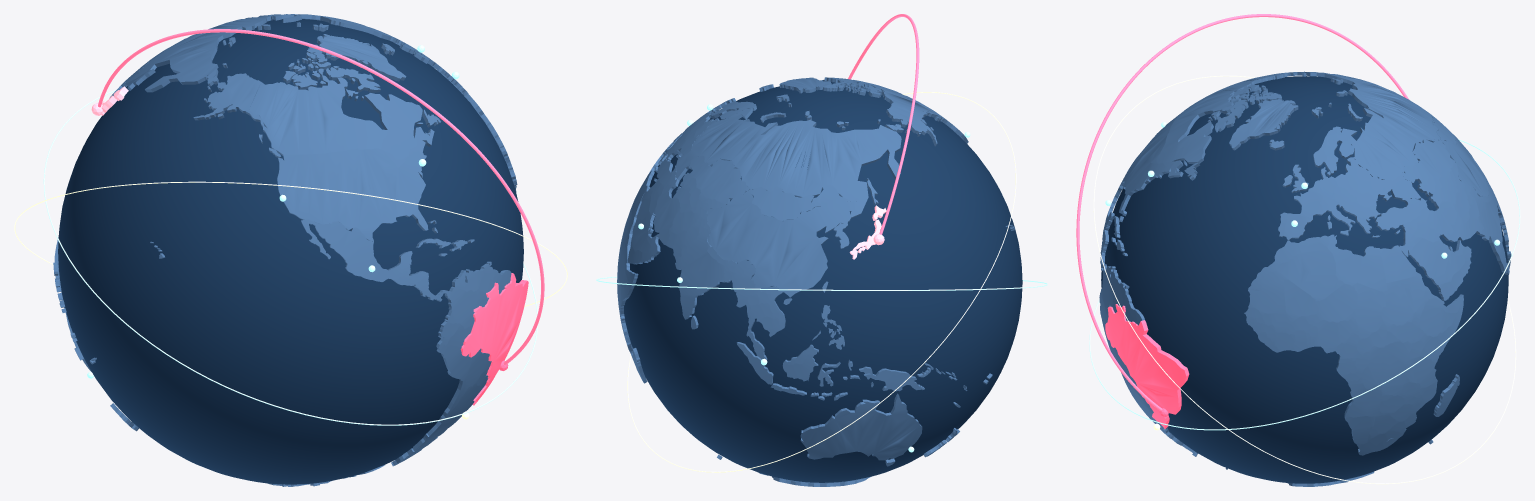
File: scene01_world.glb
3 views of the same model, side by side, from view 1: azimuth 30°, elevation 25°; view 2: azimuth 150°, elevation 25°; view 3: azimuth 270°, elevation 25° (orthographic). The views are drawn at different scales.
Visible parts, largest first — view 1: Globe_Ocean, Globe_Continents, Globe_Country_Brazil, Akai_Ito_Brazil_Japan, Globe_Orbital_Ring_1, Globe_Orbital_Ring_2; view 2: Globe_Ocean, Globe_Continents, Akai_Ito_Brazil_Japan, Globe_Orbital_Ring_2, Globe_Orbital_Ring_1, Globe_Country_Japan; view 3: Globe_Ocean, Globe_Continents, Globe_Country_Brazil, Akai_Ito_Brazil_Japan, Globe_Orbital_Ring_2, Globe_Orbital_Ring_1.
Boxes of the visible parts, x1,y1,x2,y2 form: Globe_Ocean: [58, 19, 523, 484]; Globe_Continents: [53, 14, 517, 486]; Globe_Country_Brazil: [460, 273, 528, 405]; Akai_Ito_Brazil_Japan: [98, 29, 544, 364]; Globe_Orbital_Ring_1: [43, 89, 537, 425]; Globe_Orbital_Ring_2: [14, 181, 567, 306]; Globe_Ocean: [624, 82, 1022, 482]; Globe_Continents: [617, 77, 1014, 486]; Akai_Ito_Brazil_Japan: [848, 14, 919, 234]; Globe_Orbital_Ring_2: [627, 92, 1016, 472]; Globe_Orbital_Ring_1: [596, 276, 1047, 290]; Globe_Country_Japan: [849, 205, 886, 259]; Globe_Ocean: [1101, 76, 1508, 483]; Globe_Continents: [1099, 71, 1511, 486]; Globe_Country_Brazil: [1105, 304, 1189, 428]; Akai_Ito_Brazil_Japan: [1076, 14, 1408, 410]; Globe_Orbital_Ring_2: [1093, 75, 1516, 484]; Globe_Orbital_Ring_1: [1089, 139, 1520, 430].
Size of the model in its own units: 13.1 by 13.51 by 12.9.
